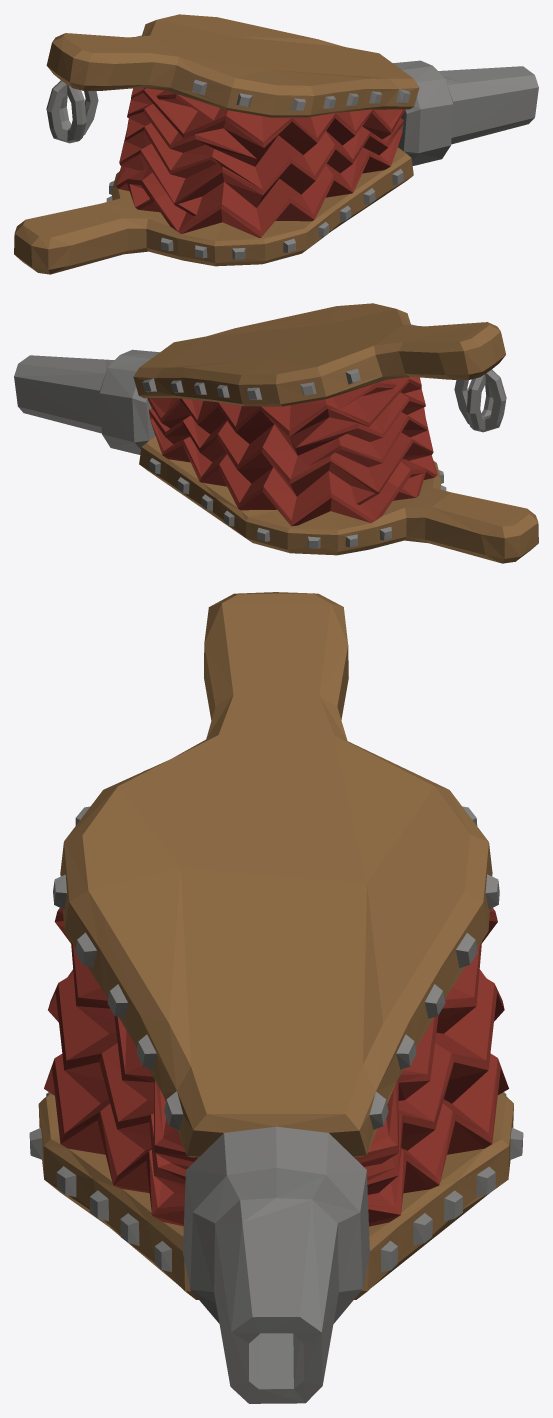
The model's file is BlacksmithBellows01.fbx.
3 views of the same model, one above another, from view 1: azimuth 30°, elevation 25°; view 2: azimuth 150°, elevation 25°; view 3: azimuth 270°, elevation 25° (orthographic). The views are drawn at different scales.
Parts seen in each view (by area): view 1: BlacksmithBellows01; view 2: BlacksmithBellows01; view 3: BlacksmithBellows01.
Boxes of the visible parts, bbox=[...] form: BlacksmithBellows01: bbox=[14, 14, 538, 274]; BlacksmithBellows01: bbox=[14, 303, 538, 563]; BlacksmithBellows01: bbox=[29, 592, 523, 1403].
Bounding box in the file's own units: 0.8996 × 0.38 × 0.3639.
